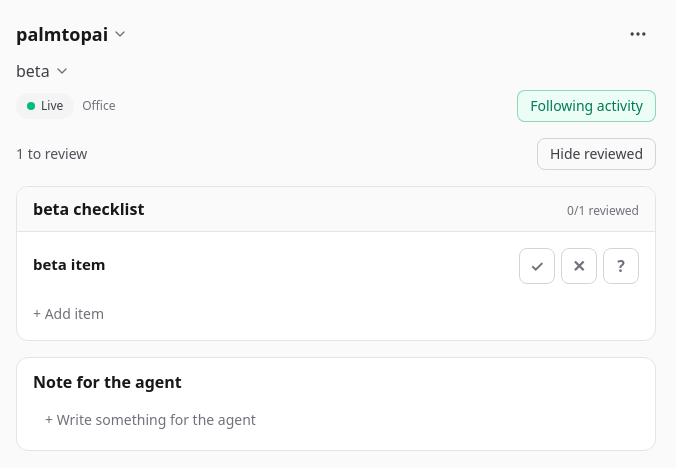
Test: ProjectView › deleting the selected session from the menu asks first
Later steps or results of the test are not shown.
Click the button named "Project menu": click(638, 34) [620, 16, 656, 52]
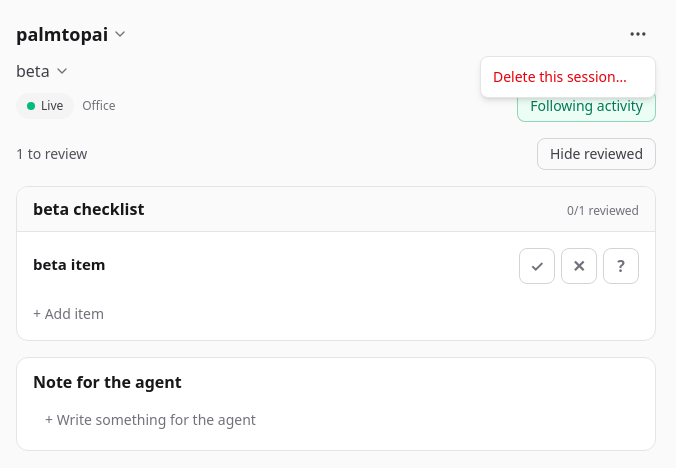
Click the menu item "Delete this session…": click(560, 76) [493, 67, 627, 86]
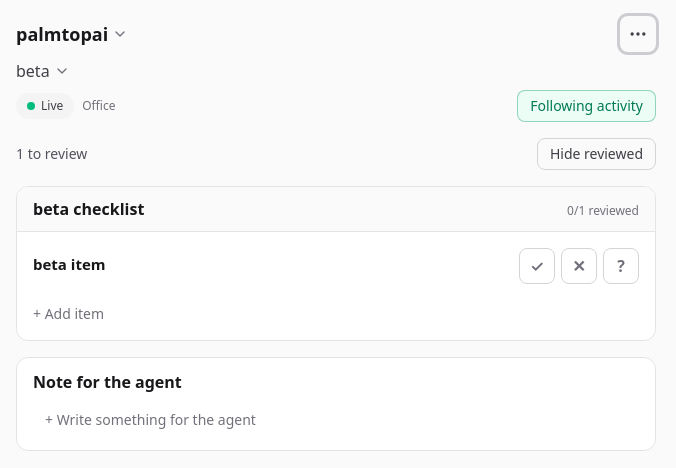
Expected: the menu is gone
